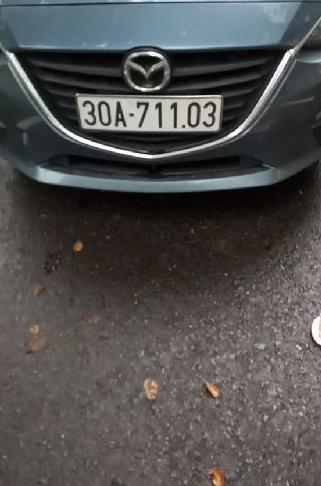Plate-iWeP: (71, 93, 227, 135)
